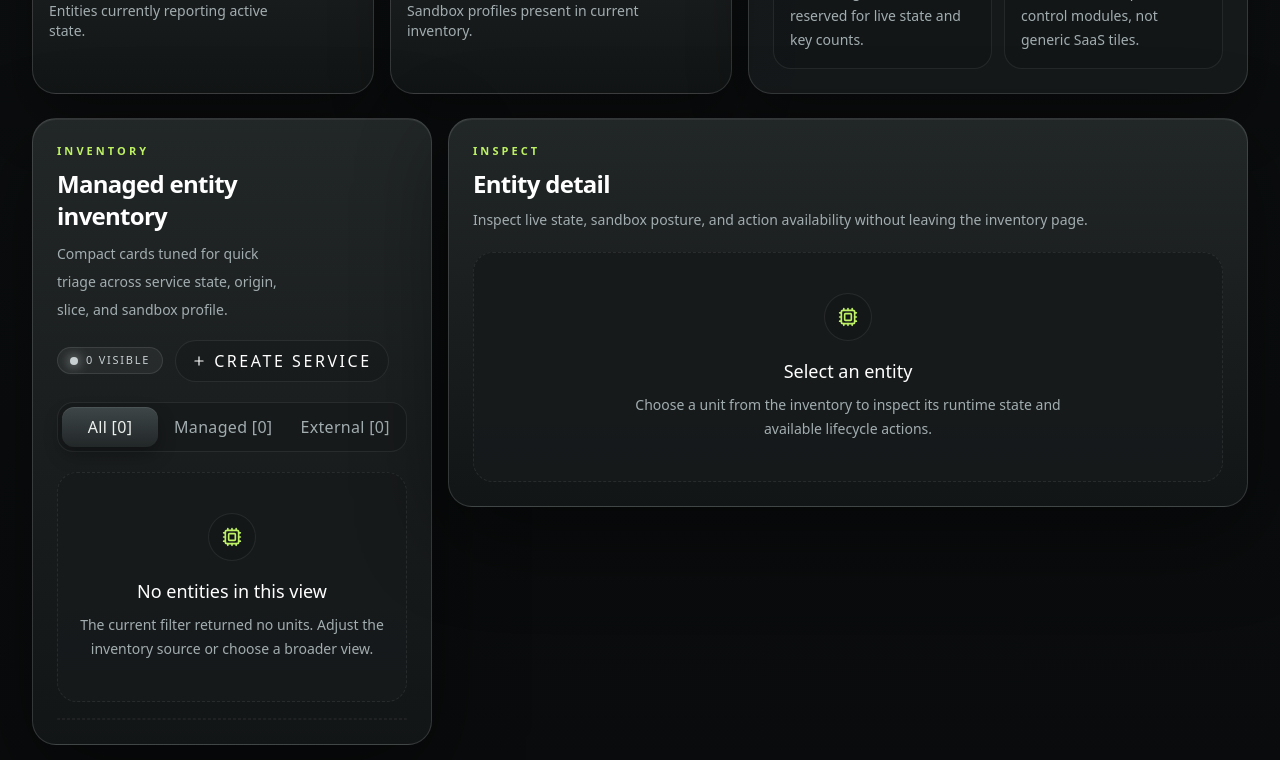
Test: opens the create panel
(page scrolled)
What coordinates should you click on to do the following:
click the button "Create service"
I would click on:
 (282, 360)
Its box is x1=175 y1=340 x2=389 y2=382.
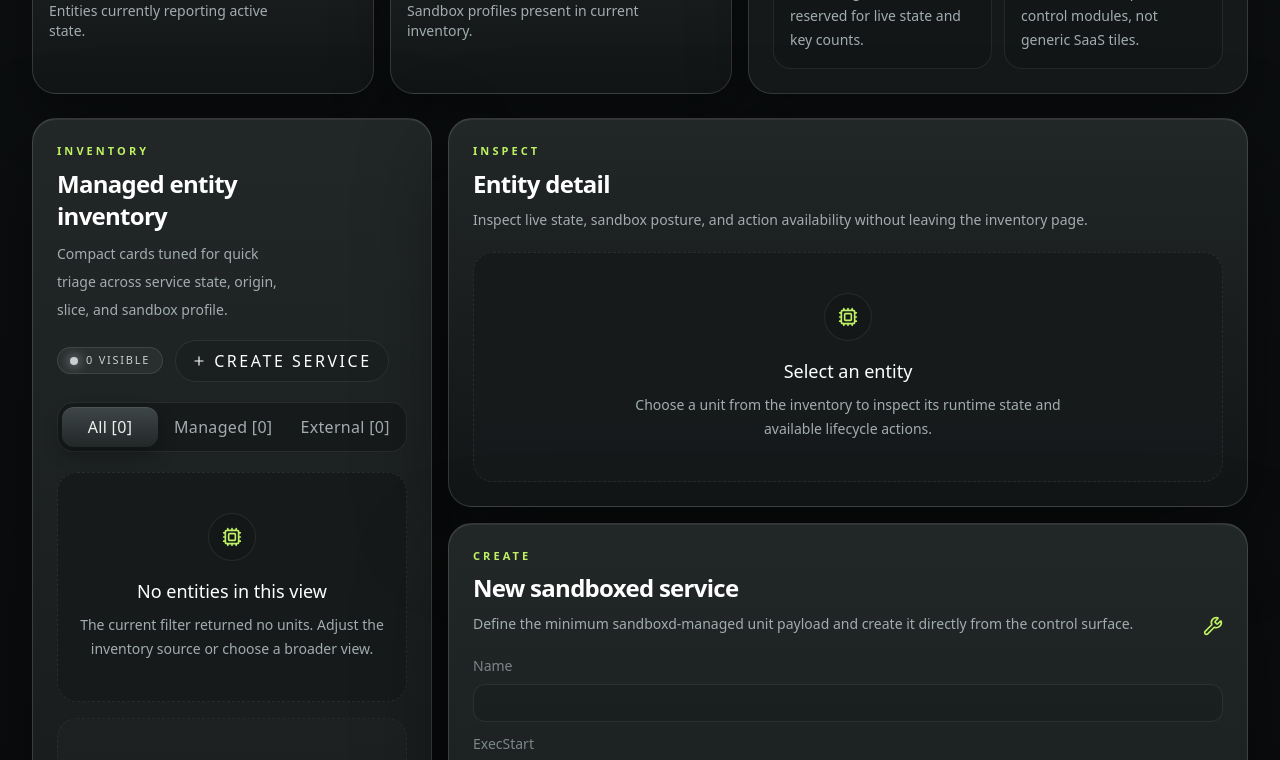
Result: the heading "New sandboxed service" is shown at x1=473 y1=571 x2=738 y2=604
